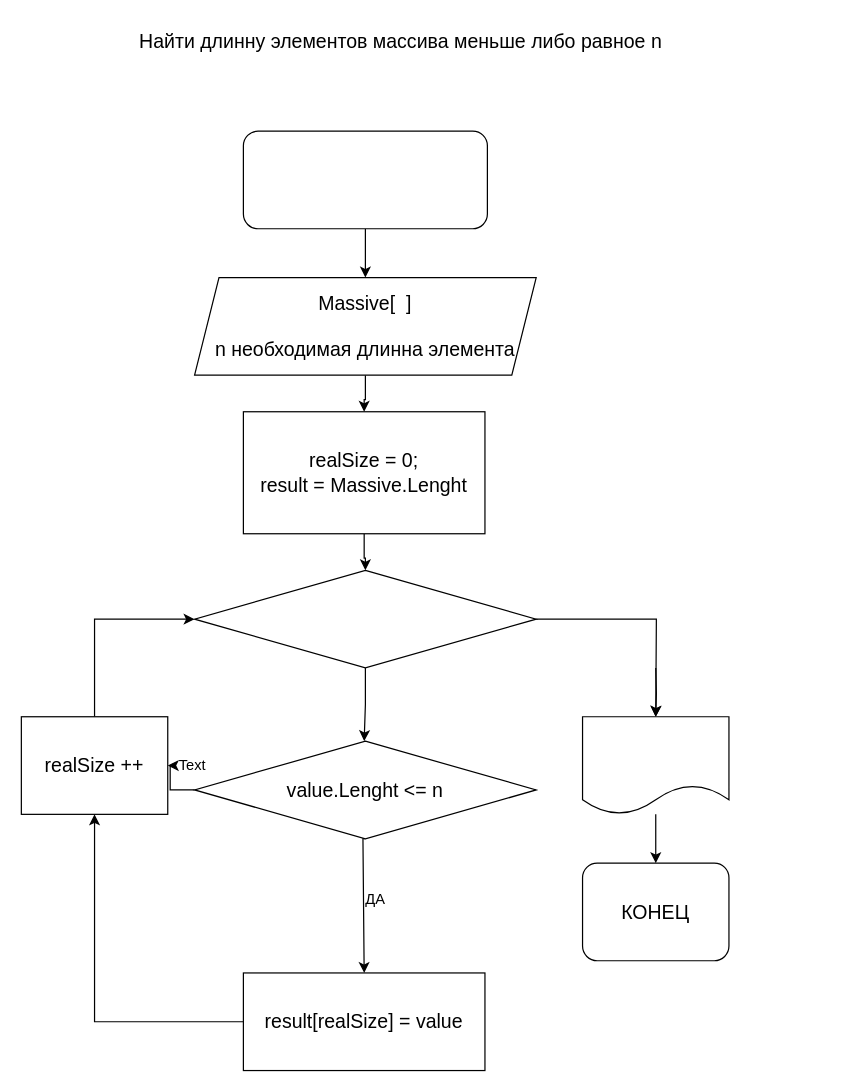
Some shapes in this 854 by 1092 pixel diagram are drawn without their labels. Here are the shapes that lost their labels. From the top down, the centre of each, then its label:
At point (364, 179): "НАЧАЛО".
At point (364, 618): "i < n".
At point (655, 765): "Print( join sep result 0 realSize )".
